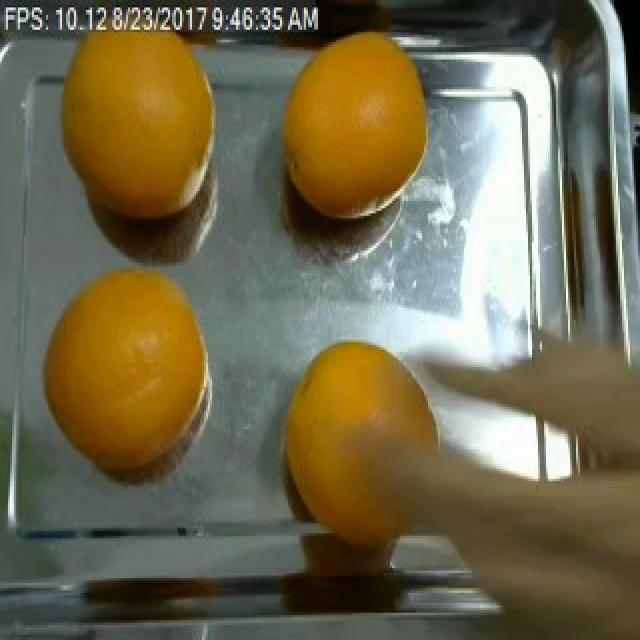Fruit: (258, 10, 434, 241), (274, 550, 412, 612)
